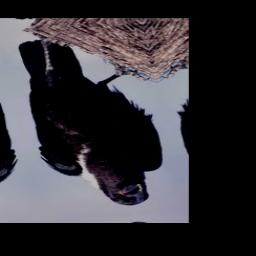Crow: (9, 25, 178, 215)
